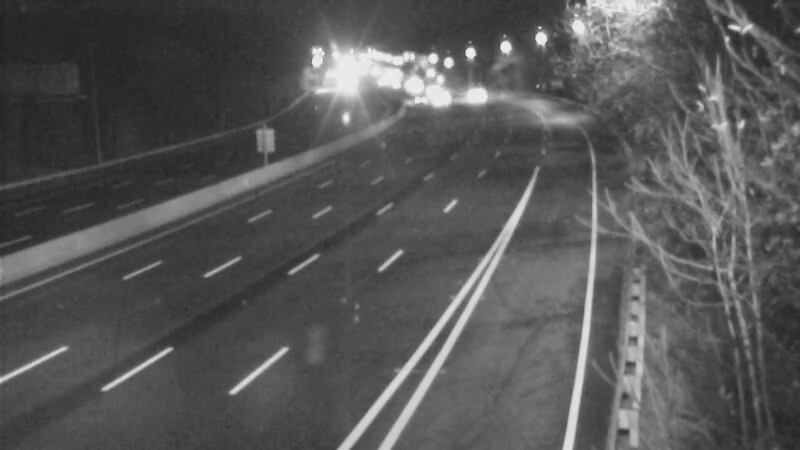vehicle: (390, 60, 440, 110), (411, 67, 461, 117), (445, 64, 495, 114), (393, 72, 443, 122), (412, 71, 462, 121)
